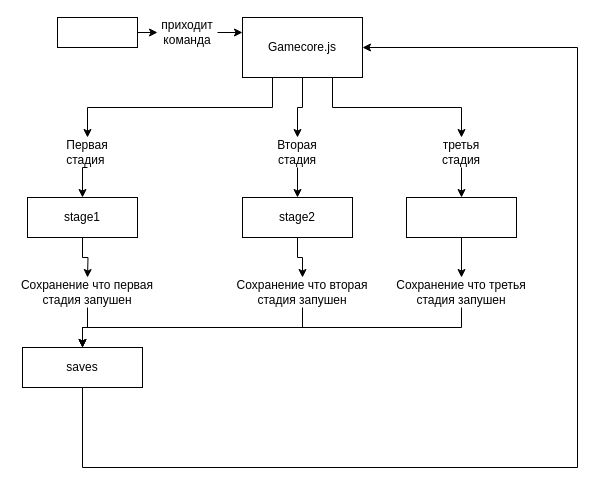
This 603x493 diagram has some shape labels left out. The box of each missing label's shape, as (x1, y1, x2, y2) in pixels:
/start: (56, 16, 138, 48)
stage3: (406, 196, 516, 238)
